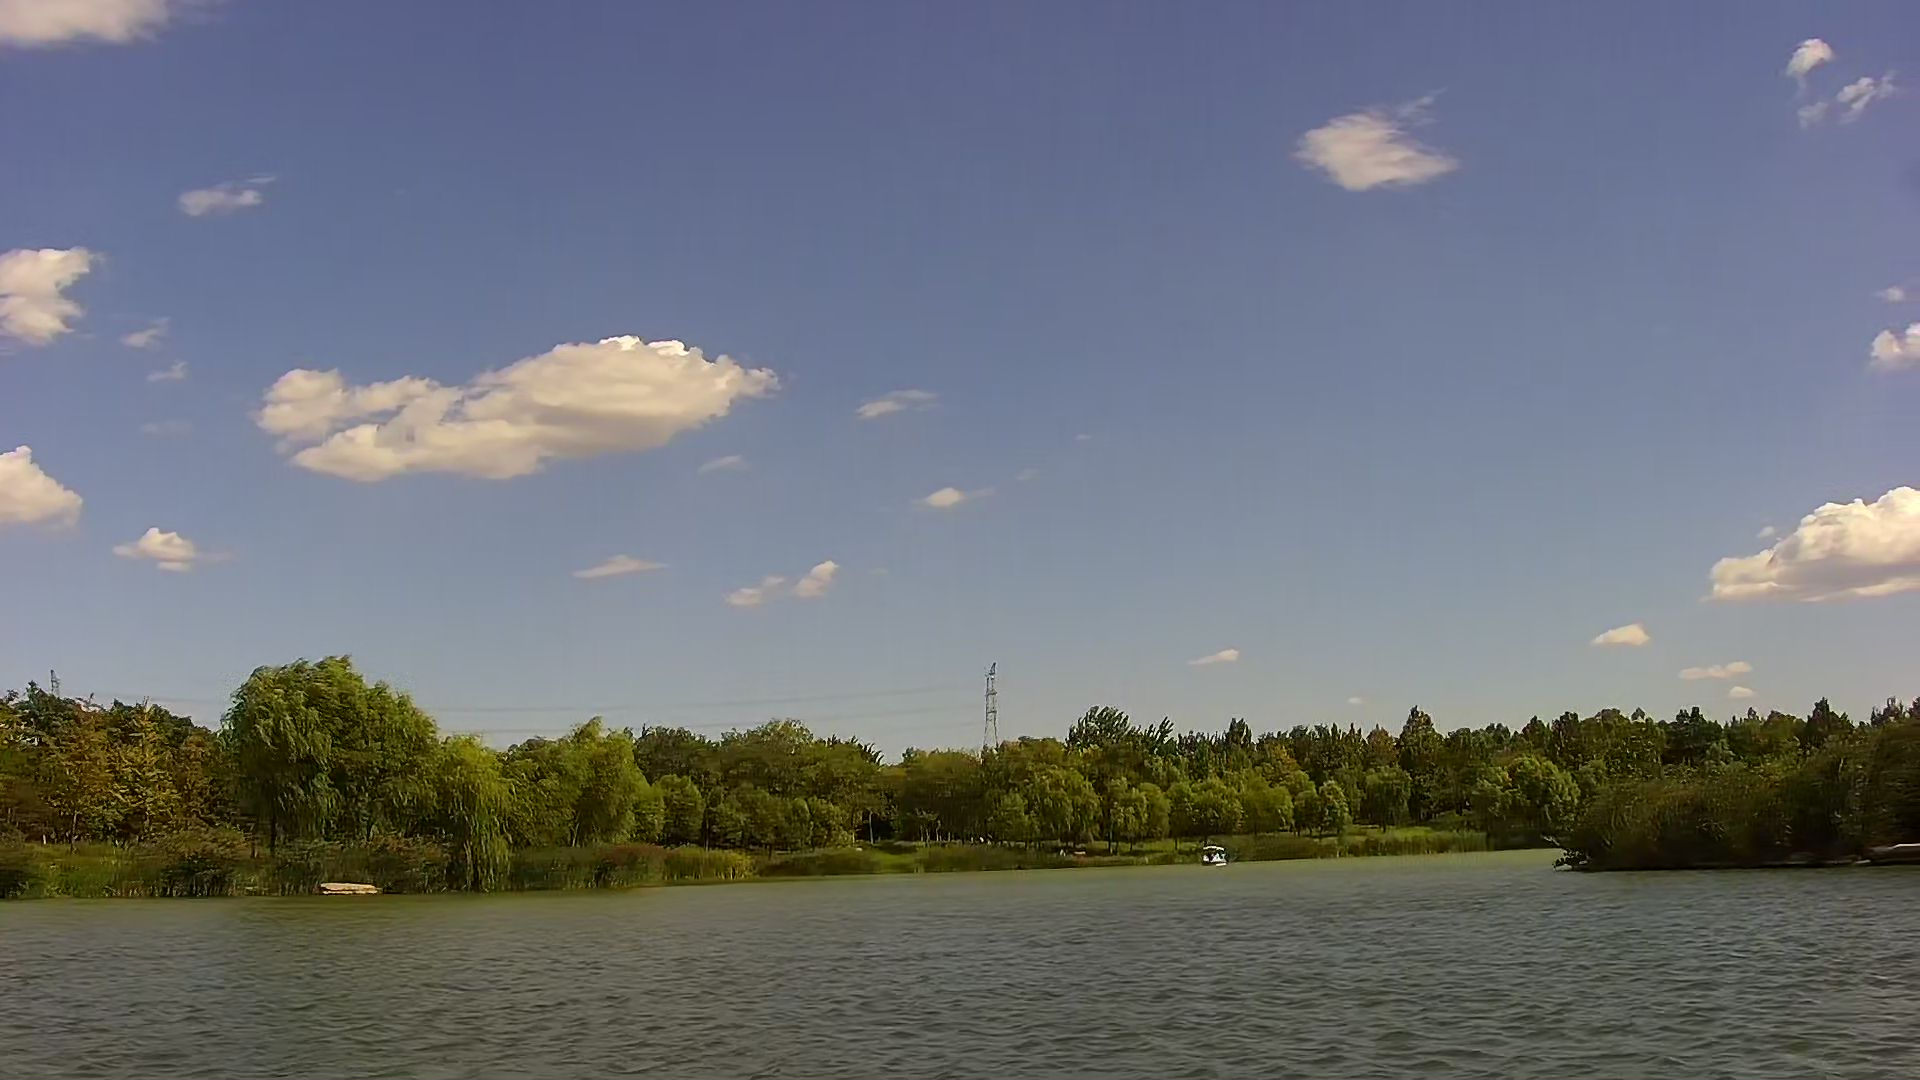boat: (1200, 843, 1228, 866)
rock: (315, 876, 381, 897)
